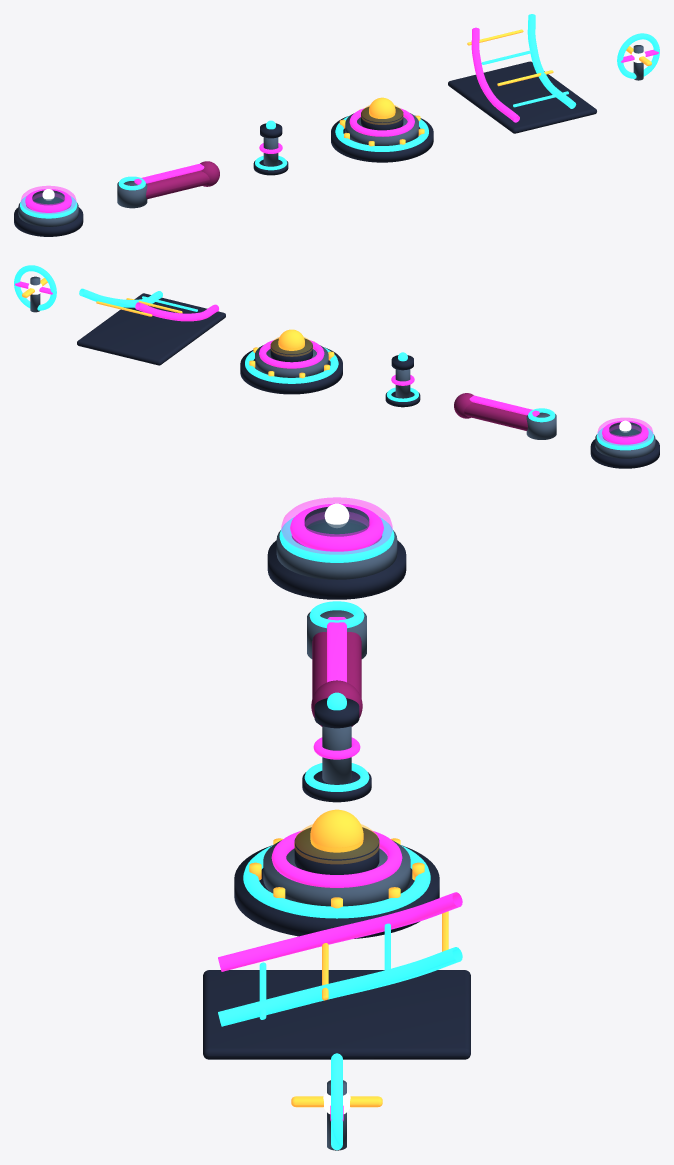
The model's file is neon-pinball-kit.glb.
3 views of the same model, one above another, from view 1: azimuth 30°, elevation 25°; view 2: azimuth 150°, elevation 25°; view 3: azimuth 270°, elevation 25° (orthographic). The views are drawn at different scales.
Parts seen in each view (by area): view 1: Ramp_Base, Reactor_Base, Flipper_Body, Bumper_Glow, Reactor_Deck, Ramp_LeftRail, Ramp_RightRail, Bumper_Base, Reactor_OuterCyan, Ramp, Spinner_Ring, Reactor_PinkRing (+9 smaller); view 2: Ramp_Base, Reactor_Base, Flipper_Body, Bumper_Glow, Reactor_Deck, Bumper_Base, Reactor_OuterCyan, Ramp_LeftRail, Spinner_Ring, Reactor_PinkRing, Reactor_CoreHousing, Flipper_Pivot (+11 smaller); view 3: Ramp_Base, Ramp_LeftRail, Ramp_RightRail, Reactor_Base, Bumper_Glow, Reactor_Deck, Bumper_Base, Reactor_OuterCyan, Reactor_PinkRing, Reactor_CoreHousing, Bumper_PinkCrown, Bumper_Chrome (+12 smaller).
Part boxes in pixels (x1,y1,x2,y2): Ramp_Base: [448, 61, 596, 133]; Reactor_Base: [331, 115, 433, 162]; Flipper_Body: [146, 171, 209, 199]; Bumper_Glow: [20, 185, 76, 213]; Reactor_Deck: [345, 113, 418, 145]; Ramp_LeftRail: [471, 27, 519, 122]; Ramp_RightRail: [527, 14, 576, 108]; Bumper_Base: [14, 207, 83, 236]; Reactor_OuterCyan: [335, 115, 428, 151]; Ramp: [467, 29, 568, 107]; Spinner_Ring: [617, 33, 659, 78]; Reactor_PinkRing: [349, 108, 414, 136]; Ramp_Base: [77, 293, 225, 365]; Reactor_Base: [240, 347, 342, 394]; Flipper_Body: [464, 402, 527, 430]; Bumper_Glow: [597, 417, 653, 445]; Reactor_Deck: [255, 345, 328, 377]; Bumper_Base: [590, 439, 659, 468]; Reactor_OuterCyan: [245, 347, 338, 383]; Ramp_LeftRail: [135, 302, 218, 321]; Spinner_Ring: [14, 265, 56, 310]; Reactor_PinkRing: [259, 340, 324, 368]; Reactor_CoreHousing: [270, 338, 312, 362]; Flipper_Pivot: [526, 412, 556, 439]; Ramp_Base: [203, 970, 470, 1059]; Ramp_LeftRail: [218, 892, 462, 971]; Ramp_RightRail: [218, 947, 462, 1026]; Reactor_Base: [234, 845, 439, 938]; Bumper_Glow: [281, 497, 392, 554]; Reactor_Deck: [263, 840, 410, 906]; Bumper_Base: [267, 540, 406, 599]; Reactor_OuterCyan: [243, 845, 430, 918]; Reactor_PinkRing: [271, 830, 402, 887]; Reactor_CoreHousing: [294, 827, 379, 874]; Bumper_PinkCrown: [290, 503, 383, 551]; Bumper_Chrome: [276, 530, 397, 579].
Bounding box in the file's own units: 13.25 × 1.26 × 2.4.
